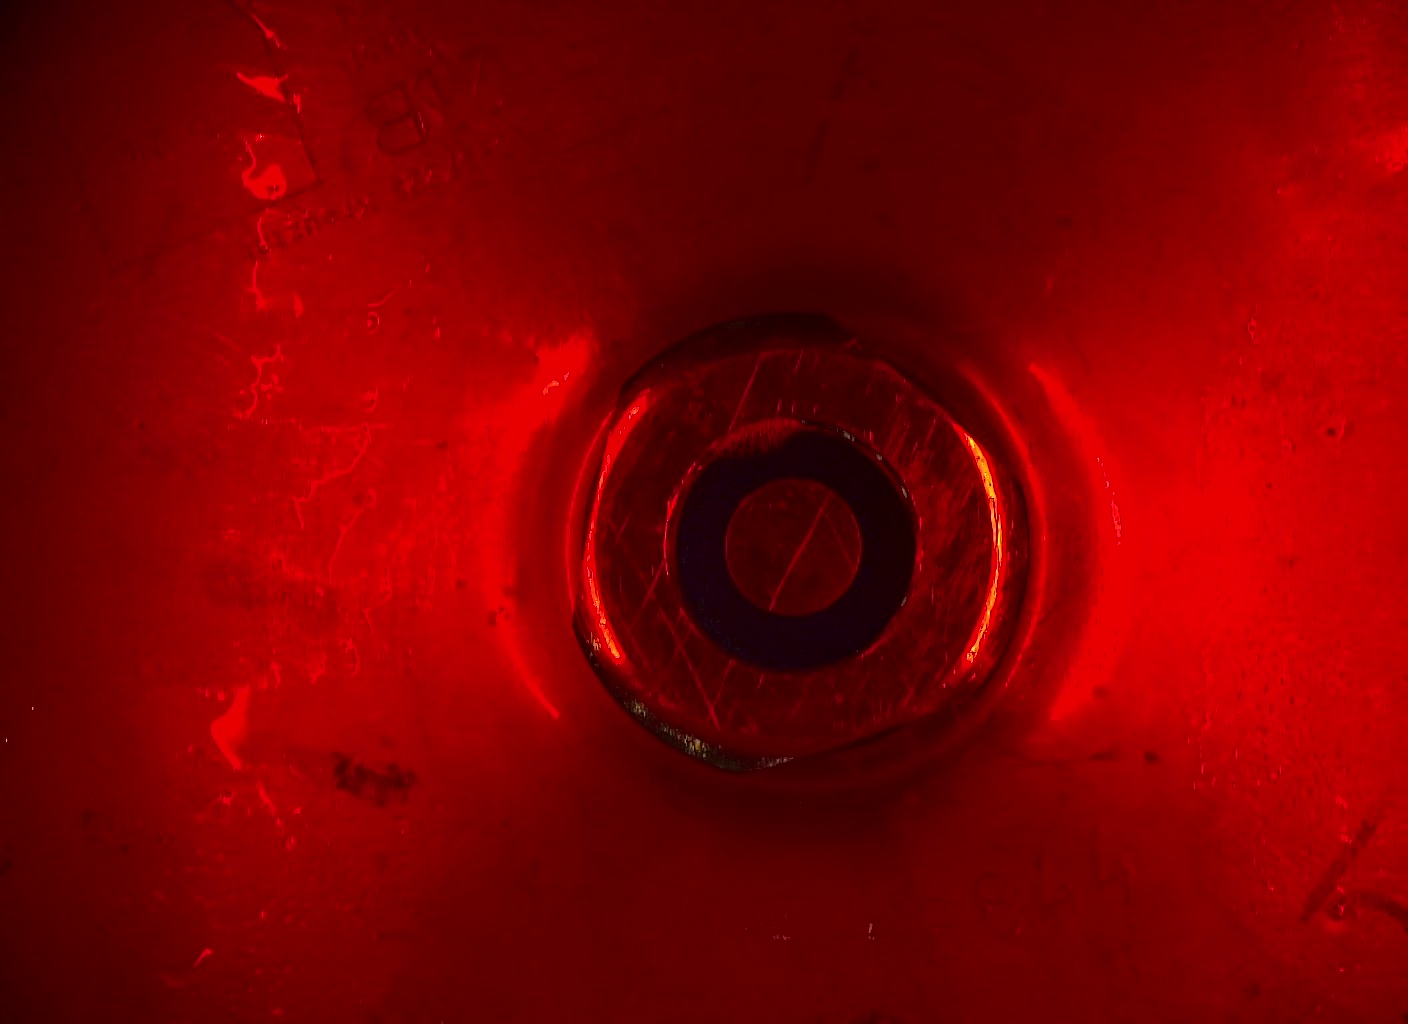pena: (687, 401, 816, 478)
